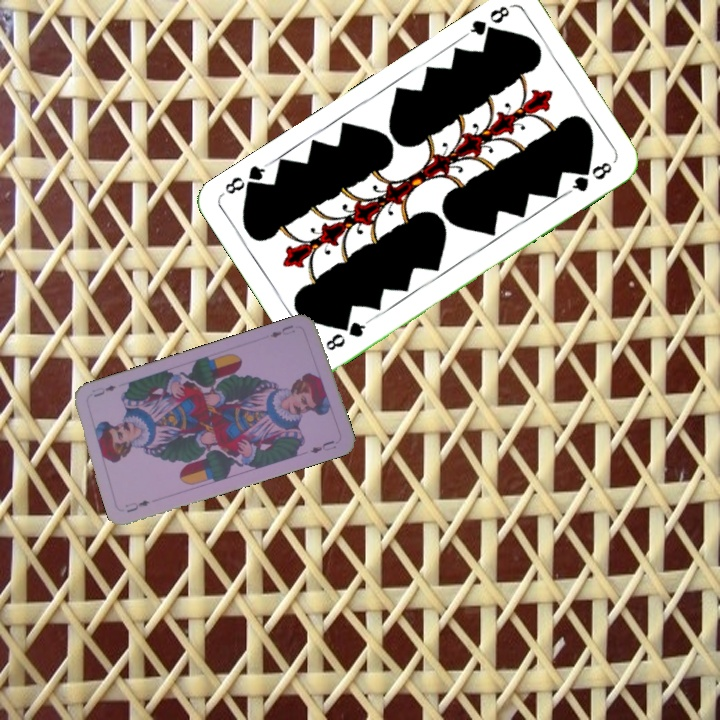EU: (266, 321, 298, 340), (121, 496, 152, 515)
G8: (461, 1, 514, 43), (321, 316, 372, 354)
